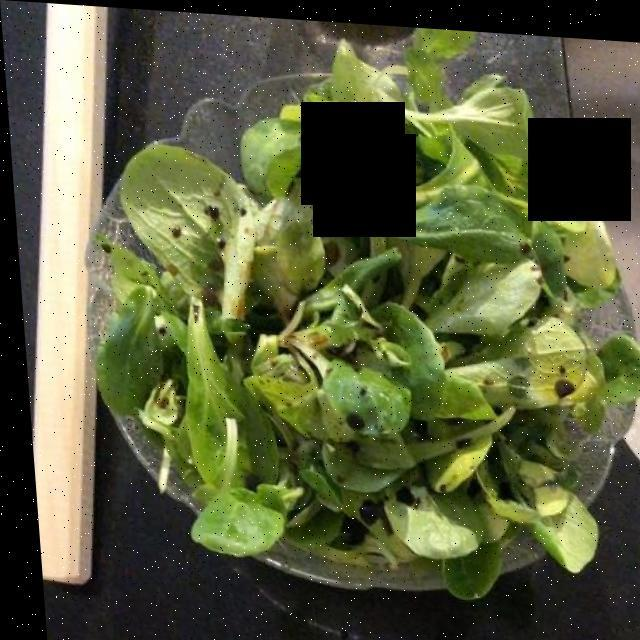salad: (97, 57, 623, 561), (173, 113, 599, 510)
